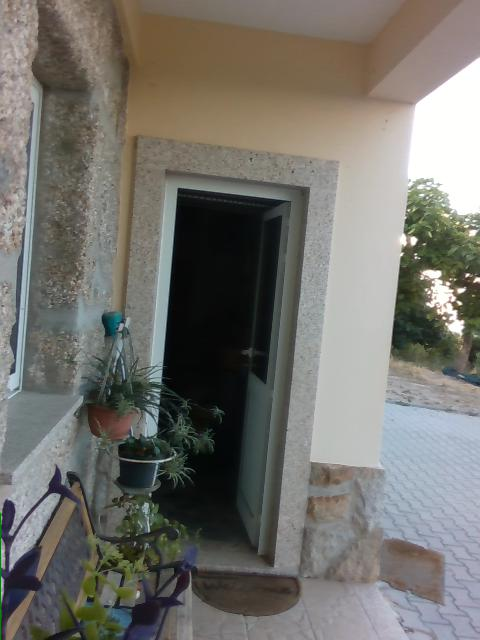open_door: (142, 170, 313, 574)
